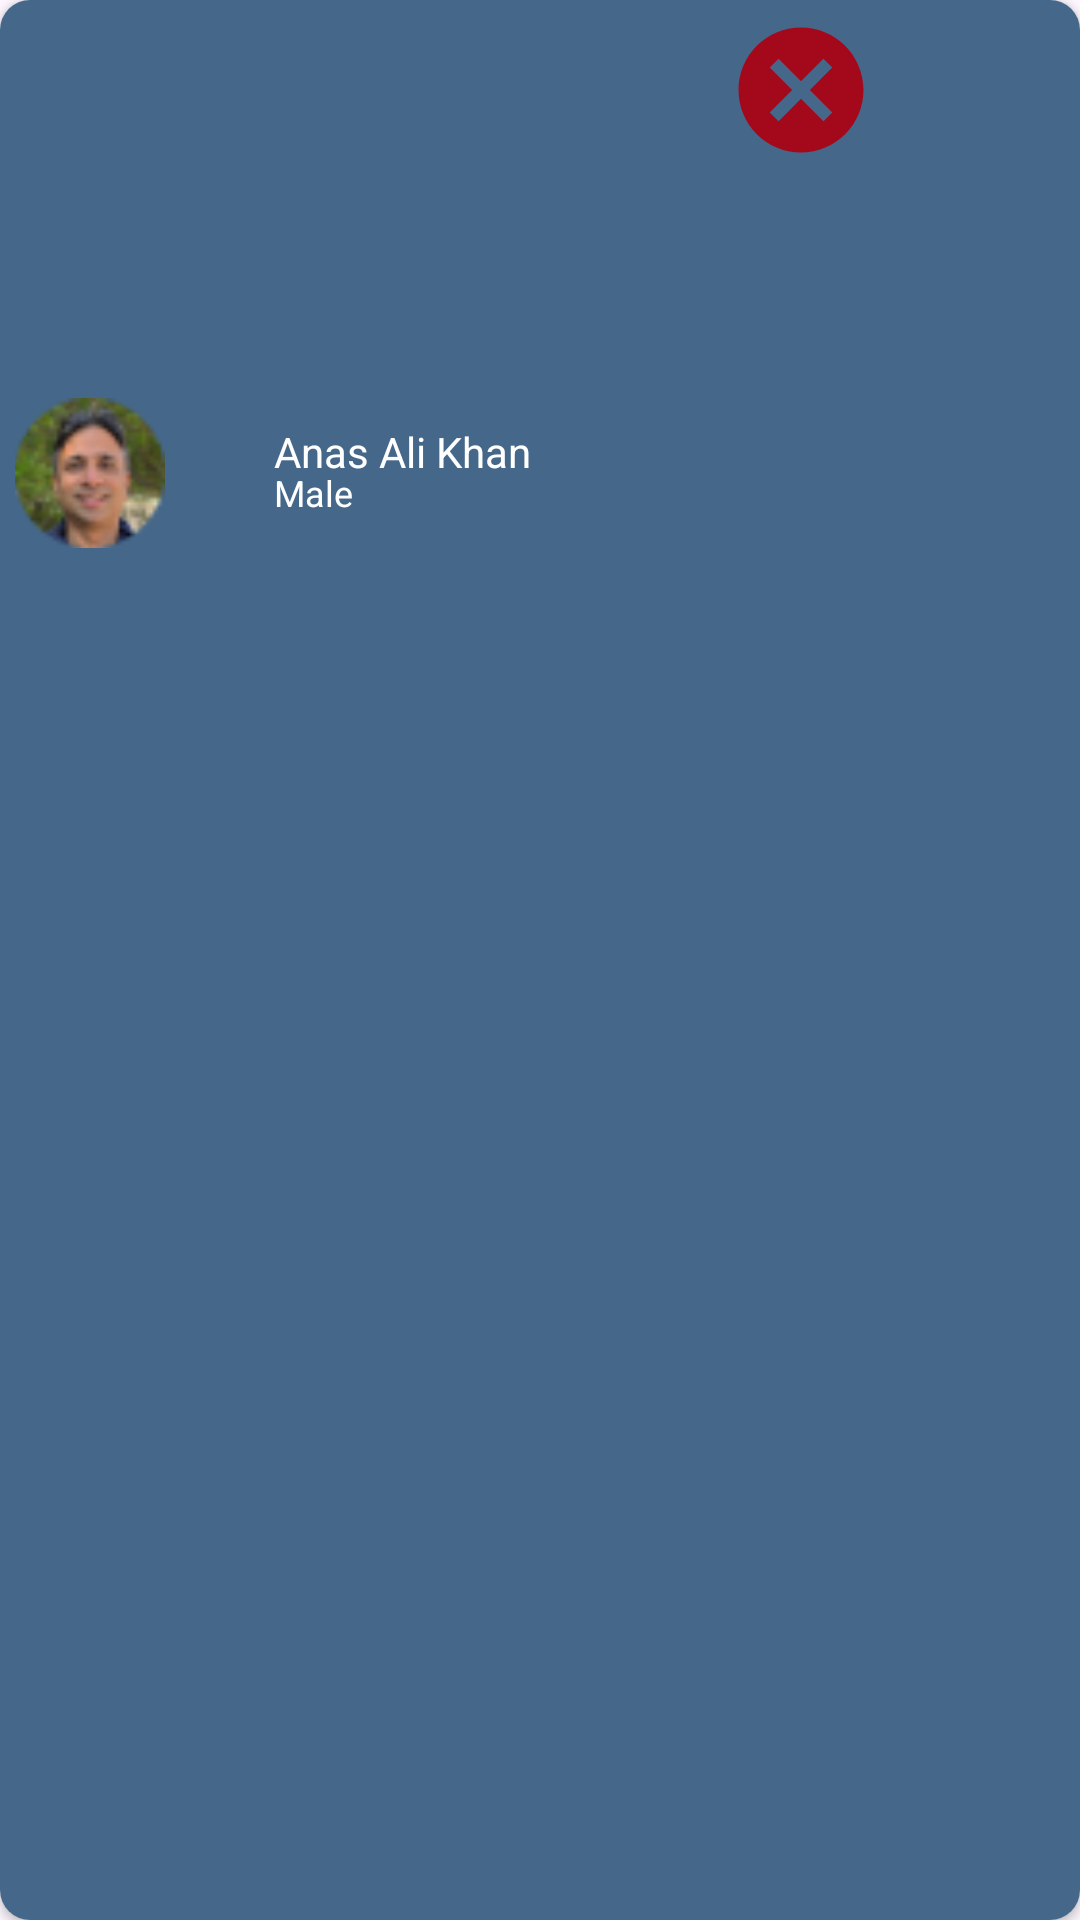

Icons on this 1080x1920 Android screen, each with its box as (x1, y1, x2, y2):
cancel: (738, 27, 864, 153)
profile: (15, 398, 165, 548)
